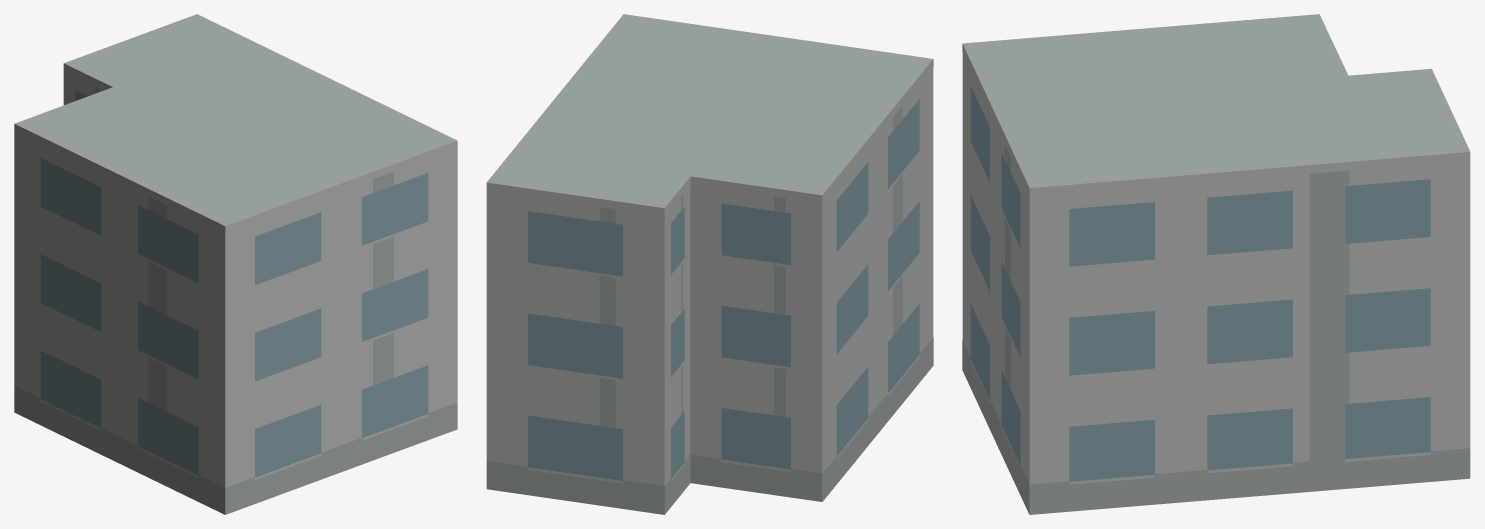
File: residential-258a438b-dafc-40ae-b896-81274ab0b528.glb
3 renders of one model, left to right at view 1: azimuth 30°, elevation 25°; view 2: azimuth 150°, elevation 25°; view 3: azimuth 270°, elevation 25°, orthographic. The views are drawn at different scales.
Visible parts, largest first — view 1: residential-258a438b-dafc-40ae-b896-81274ab0b528.tmp; view 2: residential-258a438b-dafc-40ae-b896-81274ab0b528.tmp; view 3: residential-258a438b-dafc-40ae-b896-81274ab0b528.tmp.
Boxes of the visible parts, left/top/right/bottom form: residential-258a438b-dafc-40ae-b896-81274ab0b528.tmp: left=14, top=14, right=457, bottom=514; residential-258a438b-dafc-40ae-b896-81274ab0b528.tmp: left=486, top=14, right=933, bottom=514; residential-258a438b-dafc-40ae-b896-81274ab0b528.tmp: left=962, top=14, right=1470, bottom=514.
Size of the model in its own units: 10.47 by 9.15 by 12.9.
